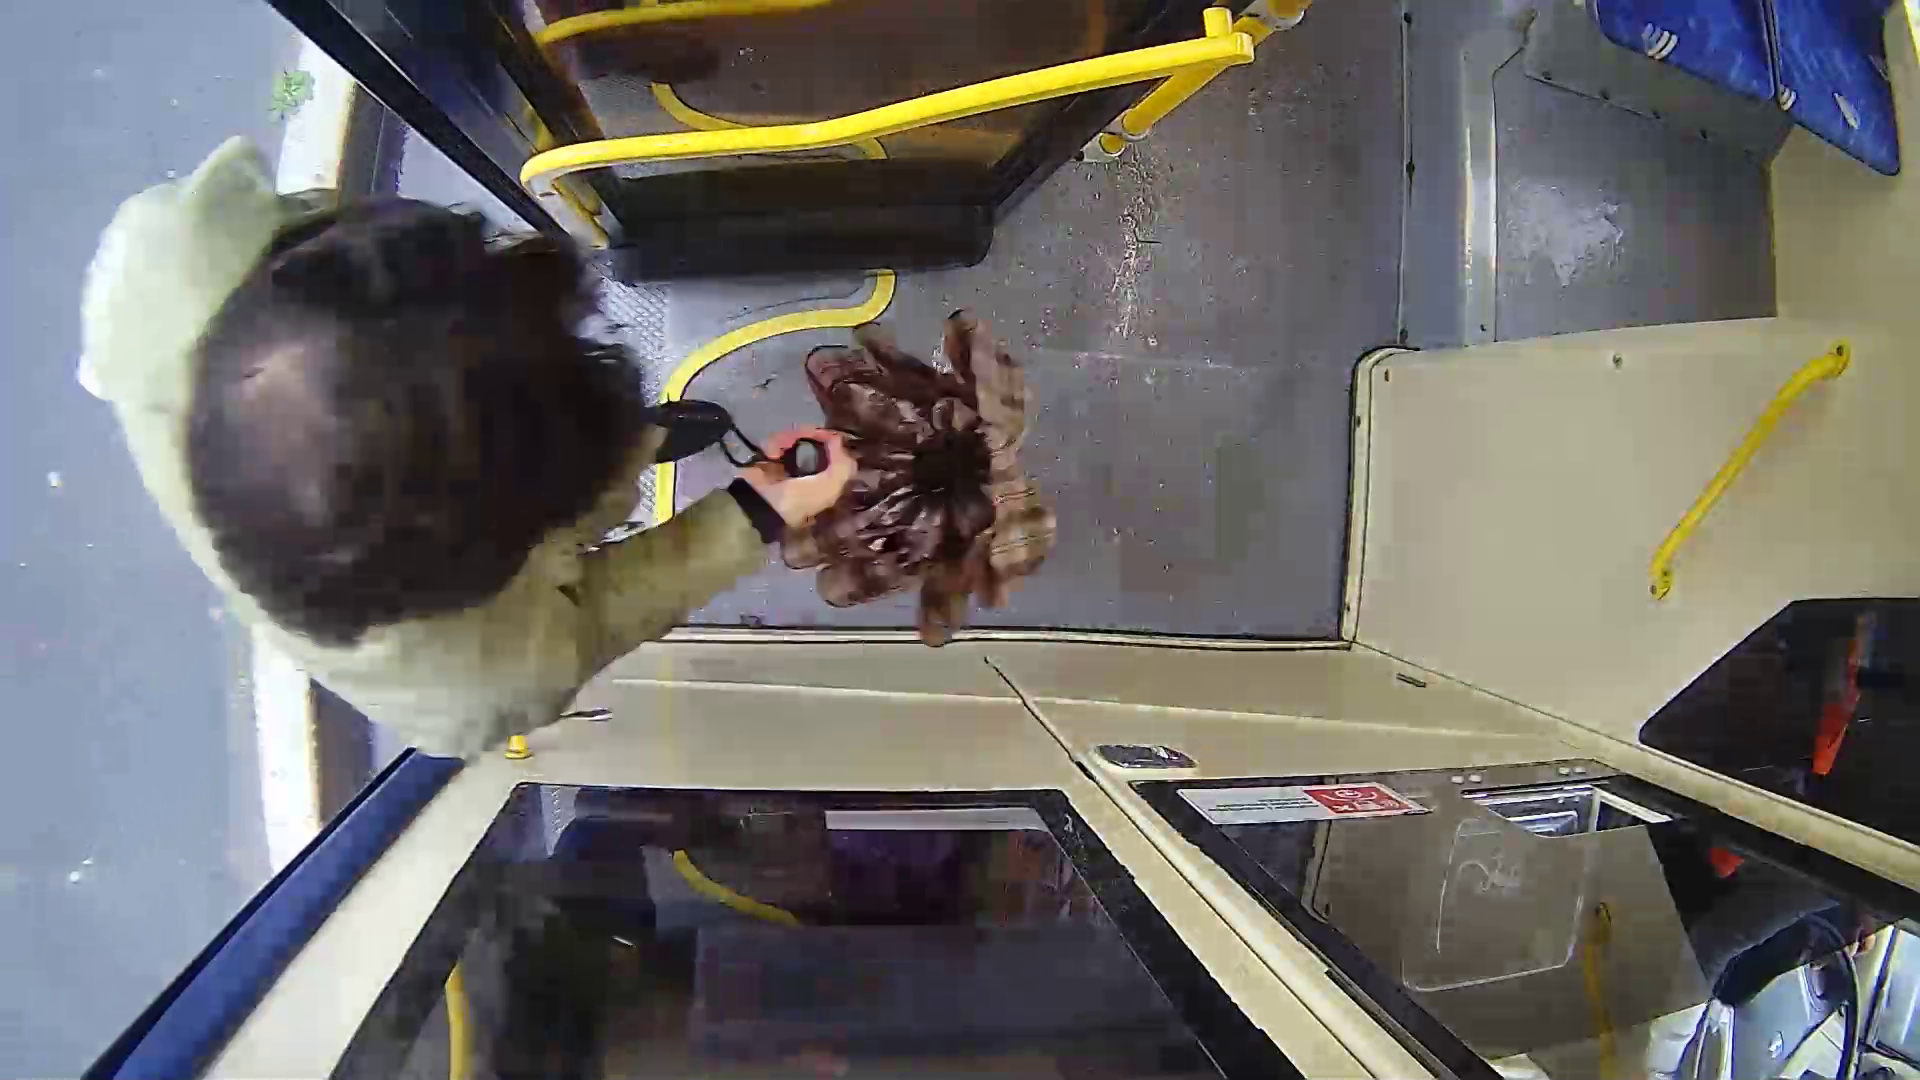person: (100, 126, 886, 732)
